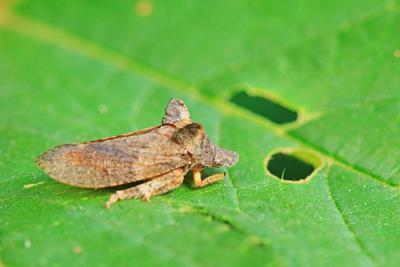Cicadellidae: (35, 99, 238, 208)
